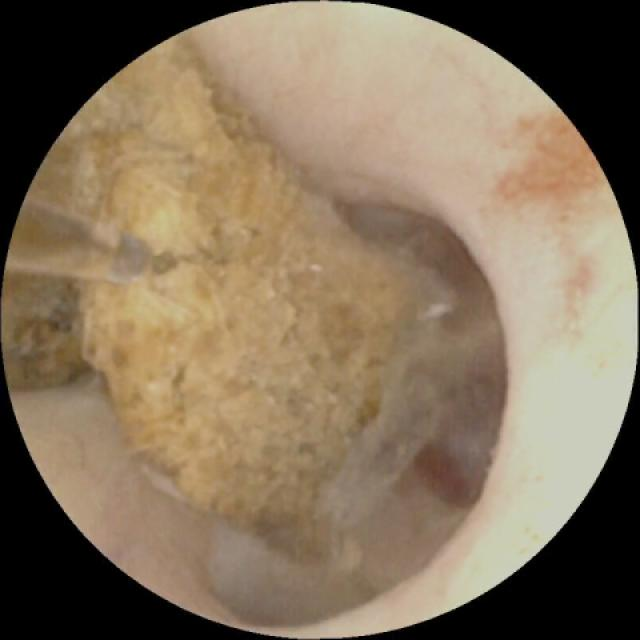stone: (9, 44, 436, 566)
